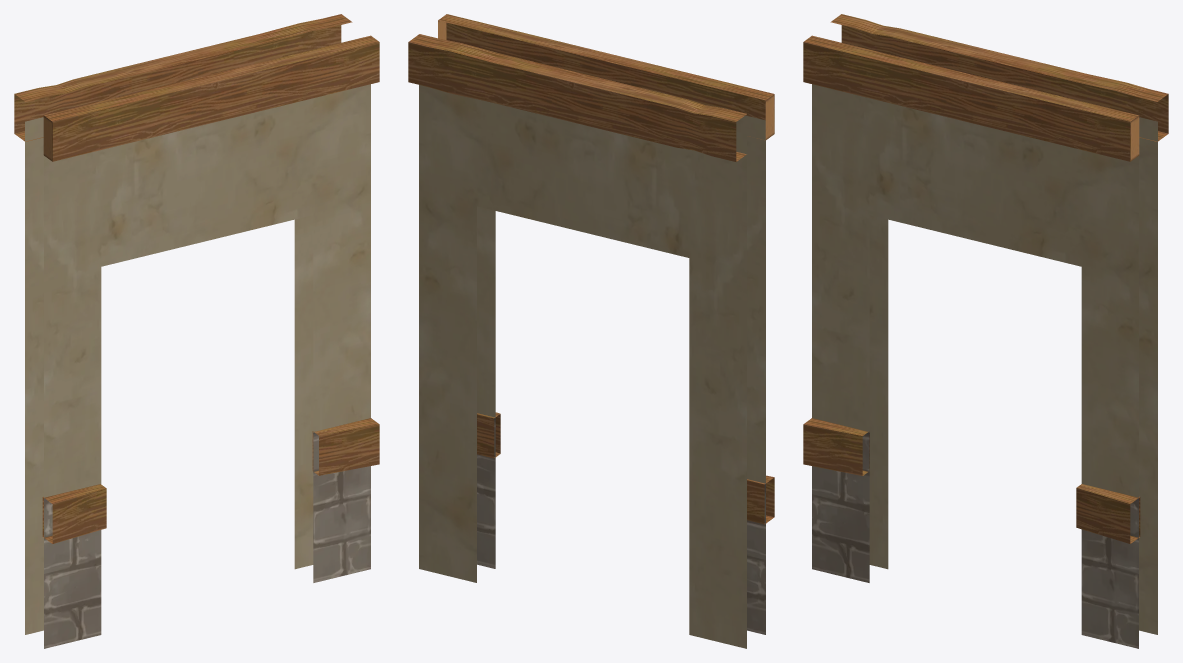
The model's file is Wall_Plaster_Door_Flat.glb.
The picture shows the model from 3 angles, left to right: view 1: azimuth 30°, elevation 25°; view 2: azimuth 150°, elevation 25°; view 3: azimuth 330°, elevation 25°; orthographic projection.
Parts seen in each view (by area): view 1: Wall_Plaster_Door_Flat; view 2: Wall_Plaster_Door_Flat; view 3: Wall_Plaster_Door_Flat.
Boxes of the visible parts, x1,y1,x2,y2 form: Wall_Plaster_Door_Flat: (14,14,379,648); Wall_Plaster_Door_Flat: (408,14,774,648); Wall_Plaster_Door_Flat: (803,14,1168,648).
Bounding box in the file's own units: 2 × 3.12 × 0.4065.
3 materials, 3 textured.
